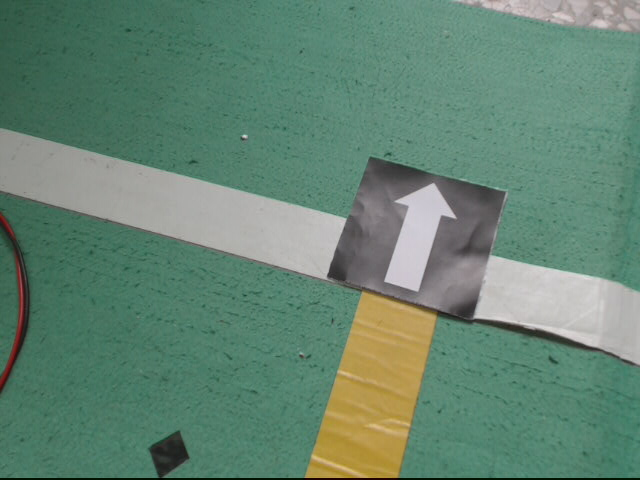straight: (327, 158, 506, 319)
